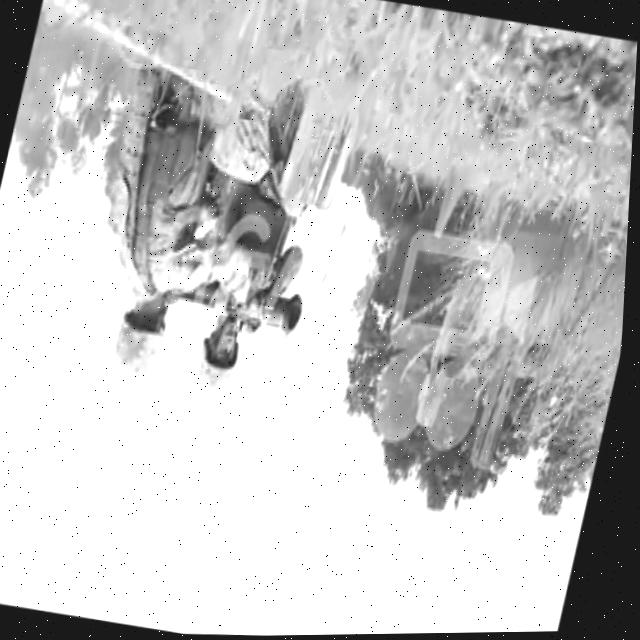rocket: (196, 276, 311, 338)
